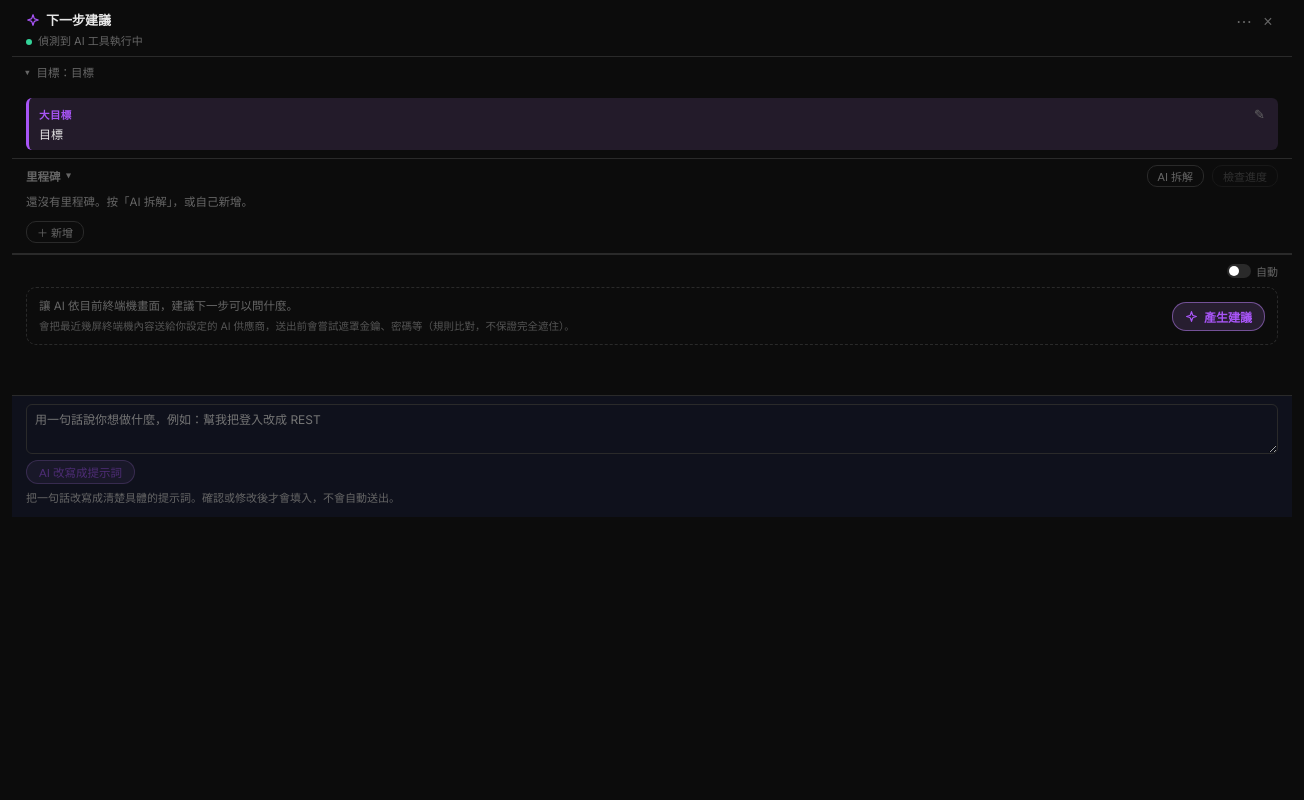
SuggestionSidebar › goal › cancel leaves the goal untouched
This screenshot has width=1304, height=800.
Click the button named "編輯大目標". click: (1258,114)
box: 1248,104 -> 1268,124
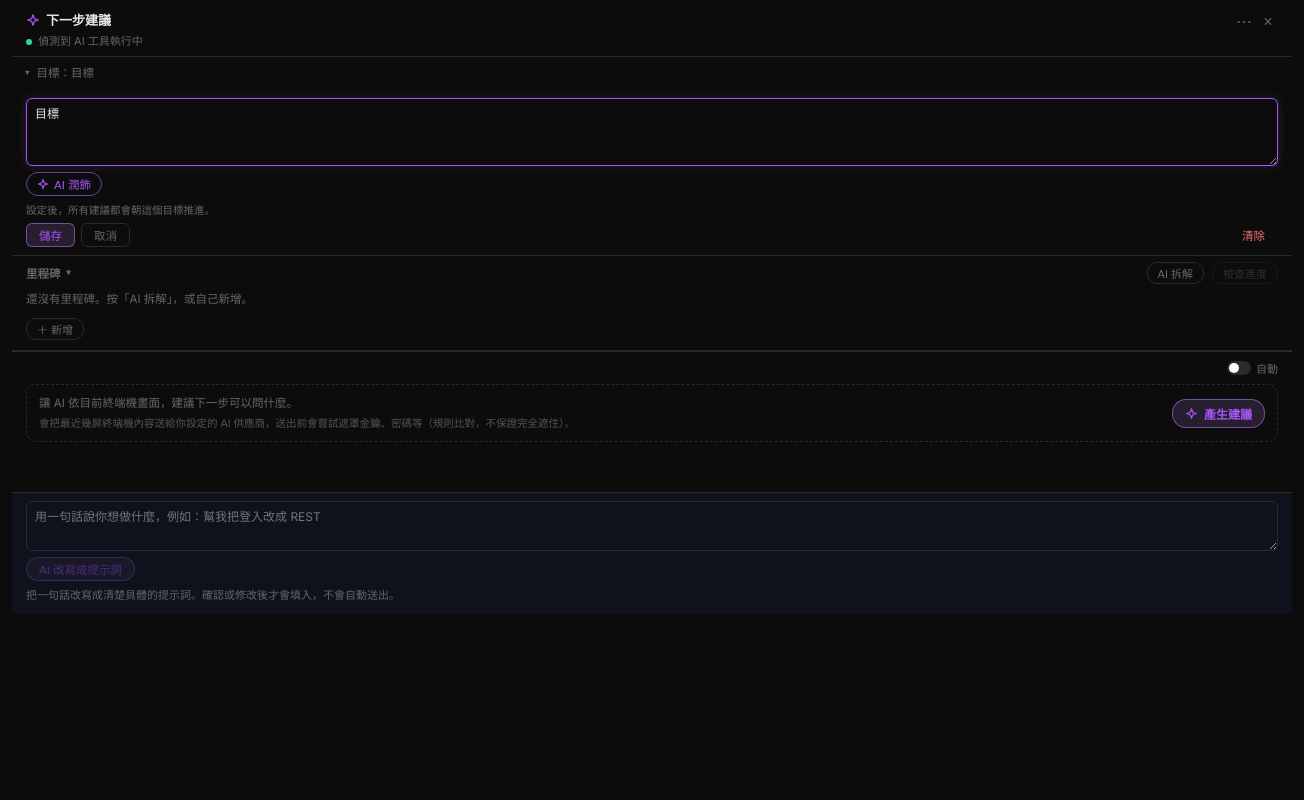
Replace the text in the text box named "大目標" with "亂改的". click: (652,132)
box: 26,98 -> 1278,166
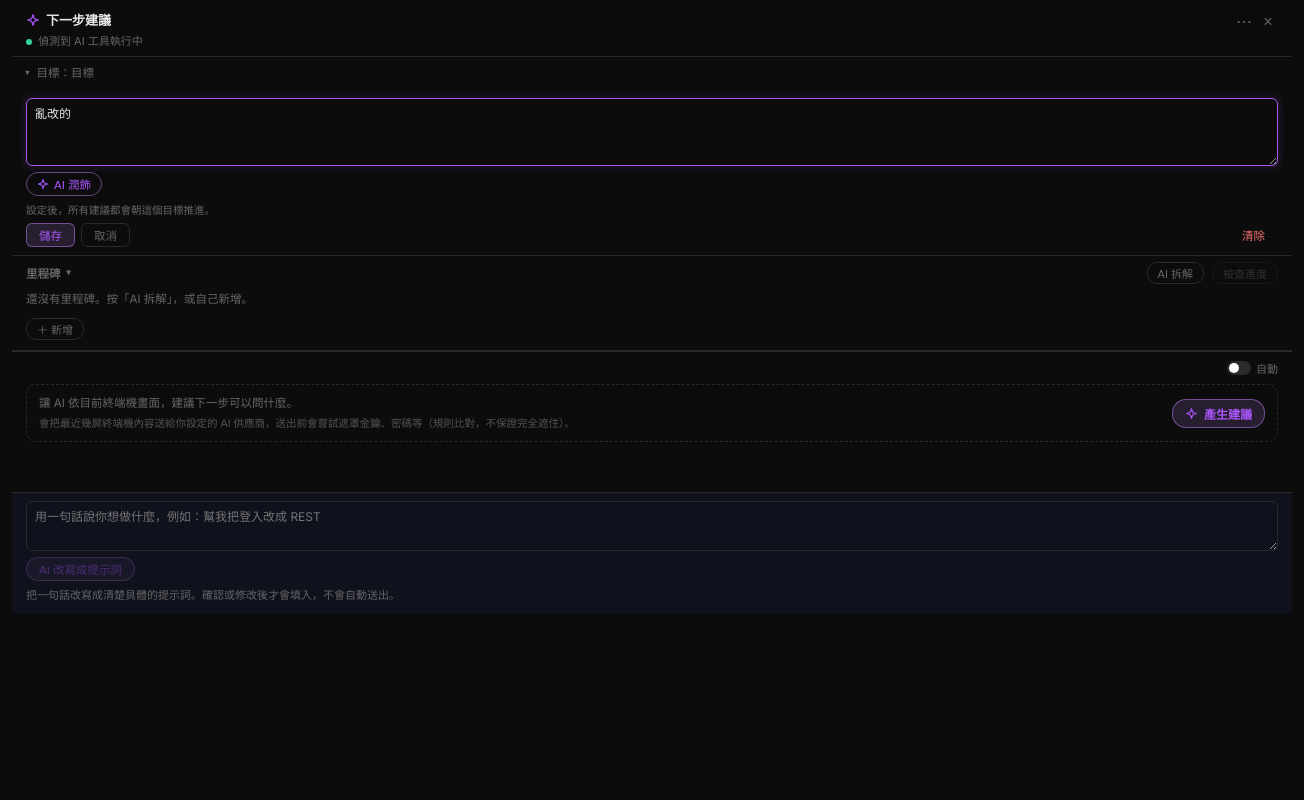
Click the button "取消". click: (106,235)
box: 81,223 -> 130,247
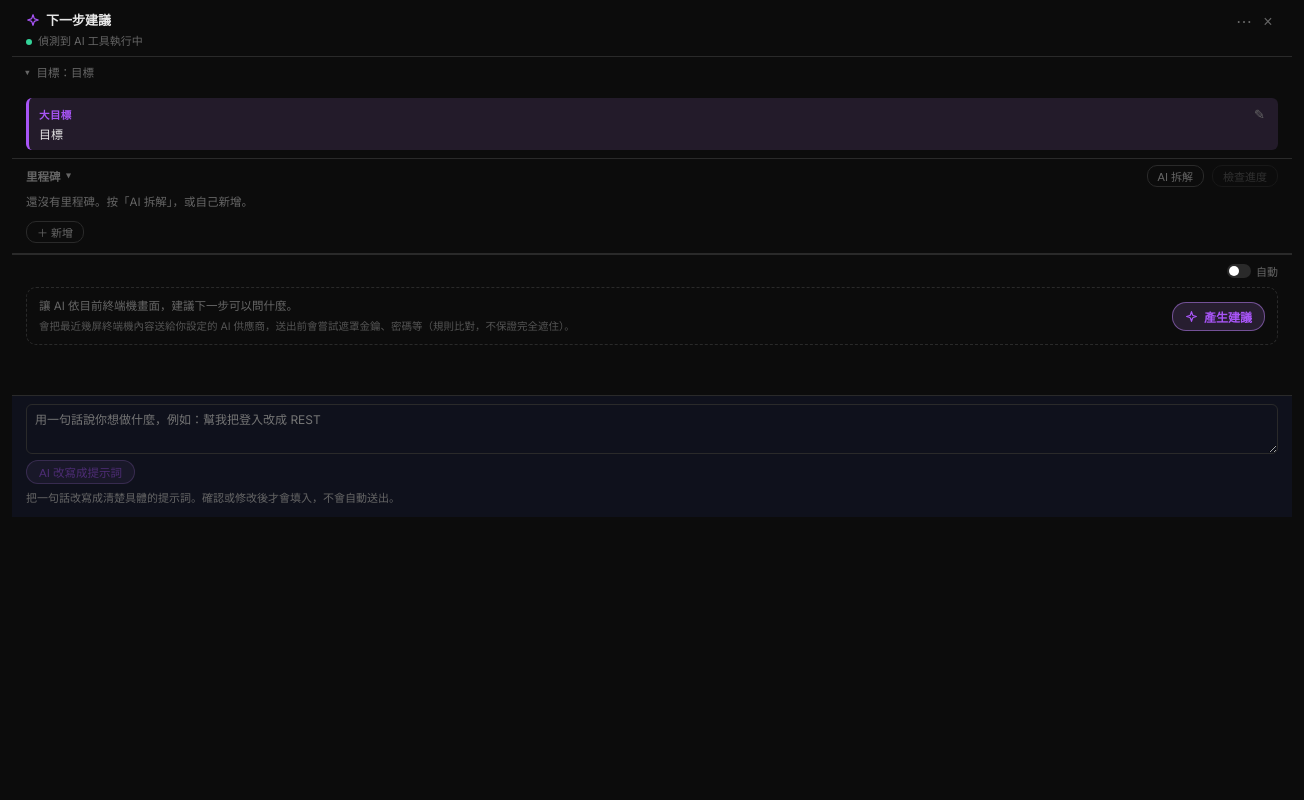
expect the text "目標" is shown: met, box 39,127 -> 63,142
